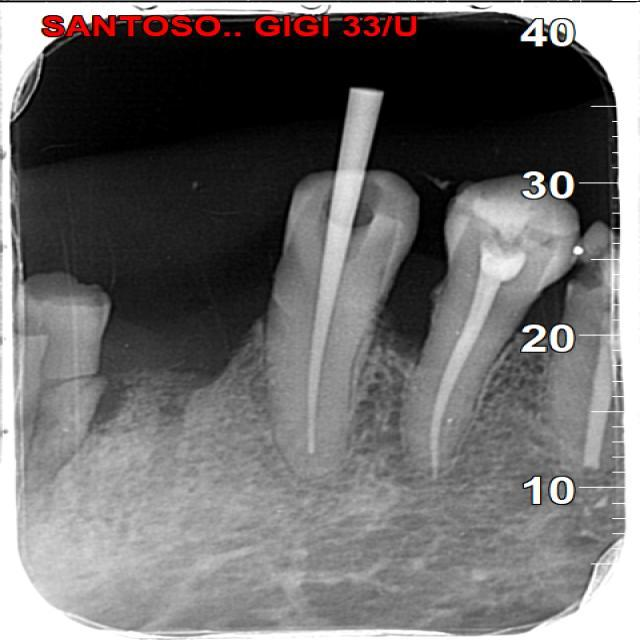individual-tooth-8tto: (403, 182, 583, 497), (271, 163, 413, 494)
